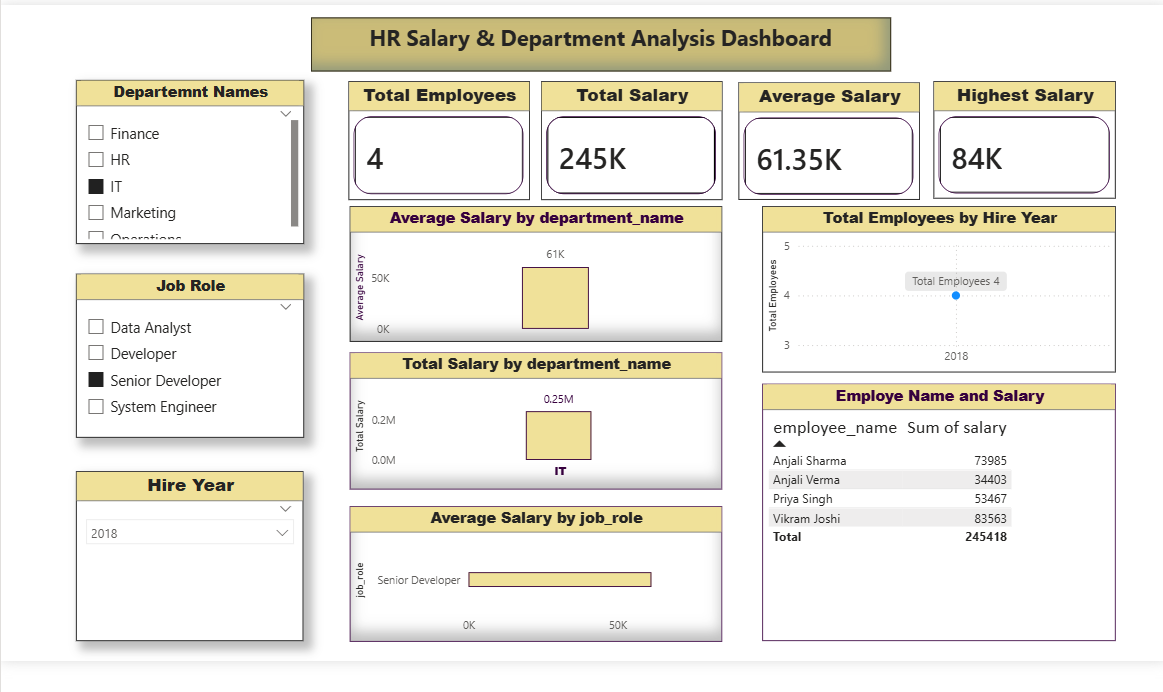

The dashboard page shown, as its layout file describes it:
{"tool":"powerbi","page":{"name":"Page 1","canvas":[1280,720],"ordinal":0},"visuals":[{"type":"cardVisual","title":"Total Employees","fields":{"Data":["employee_analysis_large departments.Total Employees"]},"box":[381.8,83.2,199,130.4],"z":0},{"type":"cardVisual","title":"Total Salary","fields":{"Data":["employee_analysis_large departments.Total Salary"]},"box":[592.5,83.2,199,130.4],"z":1000},{"type":"cardVisual","title":"Average Salary","fields":{"Data":["employee_analysis_large departments.Average Salary"]},"box":[809.9,84.5,199,129],"z":2000},{"type":"cardVisual","title":"Highest Salary","fields":{"Data":["employee_analysis_large departments.Highest Salary"]},"box":[1023.9,83.2,200.3,129],"z":3000},{"type":"clusteredColumnChart","fields":{"Category":["employee_analysis_large departments.department_name"],"Y":["employee_analysis_large departments.Average Salary"]},"box":[382.8,220.9,407.5,148.2],"z":4000},{"type":"clusteredColumnChart","fields":{"Category":["employee_analysis_large departments.department_name"],"Y":["employee_analysis_large departments.Total Salary"]},"box":[382.8,385.6,407.5,149.6],"z":5000},{"type":"clusteredBarChart","fields":{"Category":["employee_analysis_large employees.job_role"],"Y":["employee_analysis_large departments.Average Salary"]},"box":[382.4,549.8,408.6,148.6],"z":6000},{"type":"lineChart","fields":{"Category":["employee_analysis_large employees.Hire Year"],"Y":["employee_analysis_large departments.Total Employees"]},"box":[835.7,220.9,388.3,182.5],"z":7000},{"type":"tableEx","title":"Employe Name and Salary","fields":{"Values":["employee_analysis_large employees.employee_name","Sum(employee_analysis_large employees.salary)"]},"box":[835.7,415.8,388.3,282.7],"z":8000},{"type":"slicer","title":"Departemnt Names","fields":{"Values":["employee_analysis_large departments.department_name"]},"box":[82.4,82.6,250,180],"z":9000},{"type":"slicer","title":"Job Role","fields":{"Values":["employee_analysis_large employees.job_role"]},"box":[82.4,295.5,250,180],"z":10000},{"type":"slicer","title":"Hire Year","fields":{"Values":["employee_analysis_large employees.Hire Year"]},"box":[82.3,511.8,249.7,186.6],"z":11000},{"type":"textbox","box":[340,13.7,636.7,59],"z":12000}]}

Visuals, with their boxes in screenshot pixels (x1, y1, x2, y2):
"Total Employees" cardVisual: (x1=351, y1=84, x2=530, y2=200)
"Total Salary" cardVisual: (x1=540, y1=84, x2=718, y2=200)
"Average Salary" cardVisual: (x1=735, y1=85, x2=913, y2=200)
"Highest Salary" cardVisual: (x1=927, y1=84, x2=1106, y2=199)
clusteredColumnChart - employee_analysis_large departments.department_name x employee_analysis_large departments.Average Salary: (x1=352, y1=207, x2=717, y2=340)
clusteredColumnChart - employee_analysis_large departments.department_name x employee_analysis_large departments.Total Salary: (x1=352, y1=355, x2=717, y2=489)
clusteredBarChart - employee_analysis_large employees.job_role x employee_analysis_large departments.Average Salary: (x1=352, y1=502, x2=718, y2=635)
lineChart - employee_analysis_large employees.Hire Year x employee_analysis_large departments.Total Employees: (x1=758, y1=207, x2=1106, y2=371)
"Employe Name and Salary" tableEx: (x1=758, y1=382, x2=1106, y2=635)
"Departemnt Names" slicer: (x1=83, y1=83, x2=307, y2=244)
"Job Role" slicer: (x1=83, y1=274, x2=307, y2=435)
"Hire Year" slicer: (x1=83, y1=468, x2=307, y2=635)
textbox: (x1=314, y1=21, x2=884, y2=74)
